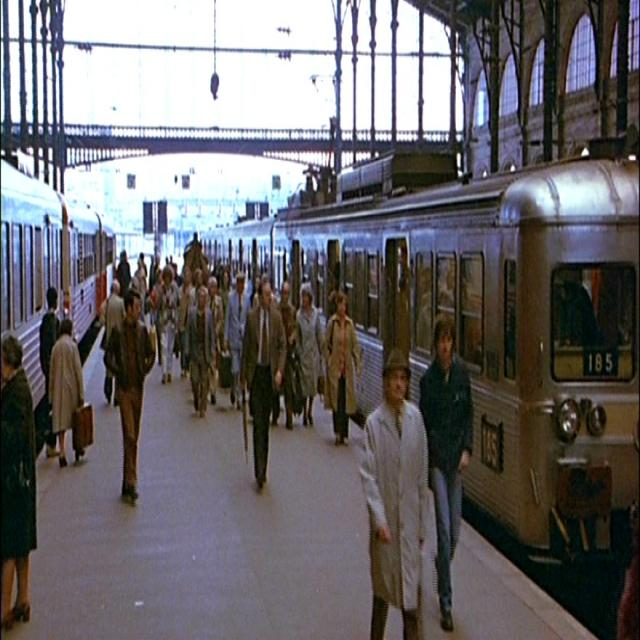body: (356, 344, 432, 639), (418, 312, 474, 634), (101, 284, 158, 504), (236, 270, 288, 495), (0, 334, 38, 626), (47, 316, 87, 469), (323, 288, 361, 447), (294, 282, 329, 430), (182, 284, 218, 419), (38, 283, 63, 460), (271, 279, 300, 431), (221, 270, 252, 411), (98, 276, 128, 408), (210, 258, 265, 313), (156, 264, 180, 386), (207, 275, 224, 406), (177, 265, 196, 379), (183, 229, 210, 295), (138, 251, 184, 289), (116, 248, 132, 314), (135, 256, 148, 324), (188, 268, 210, 308), (217, 265, 234, 313)
